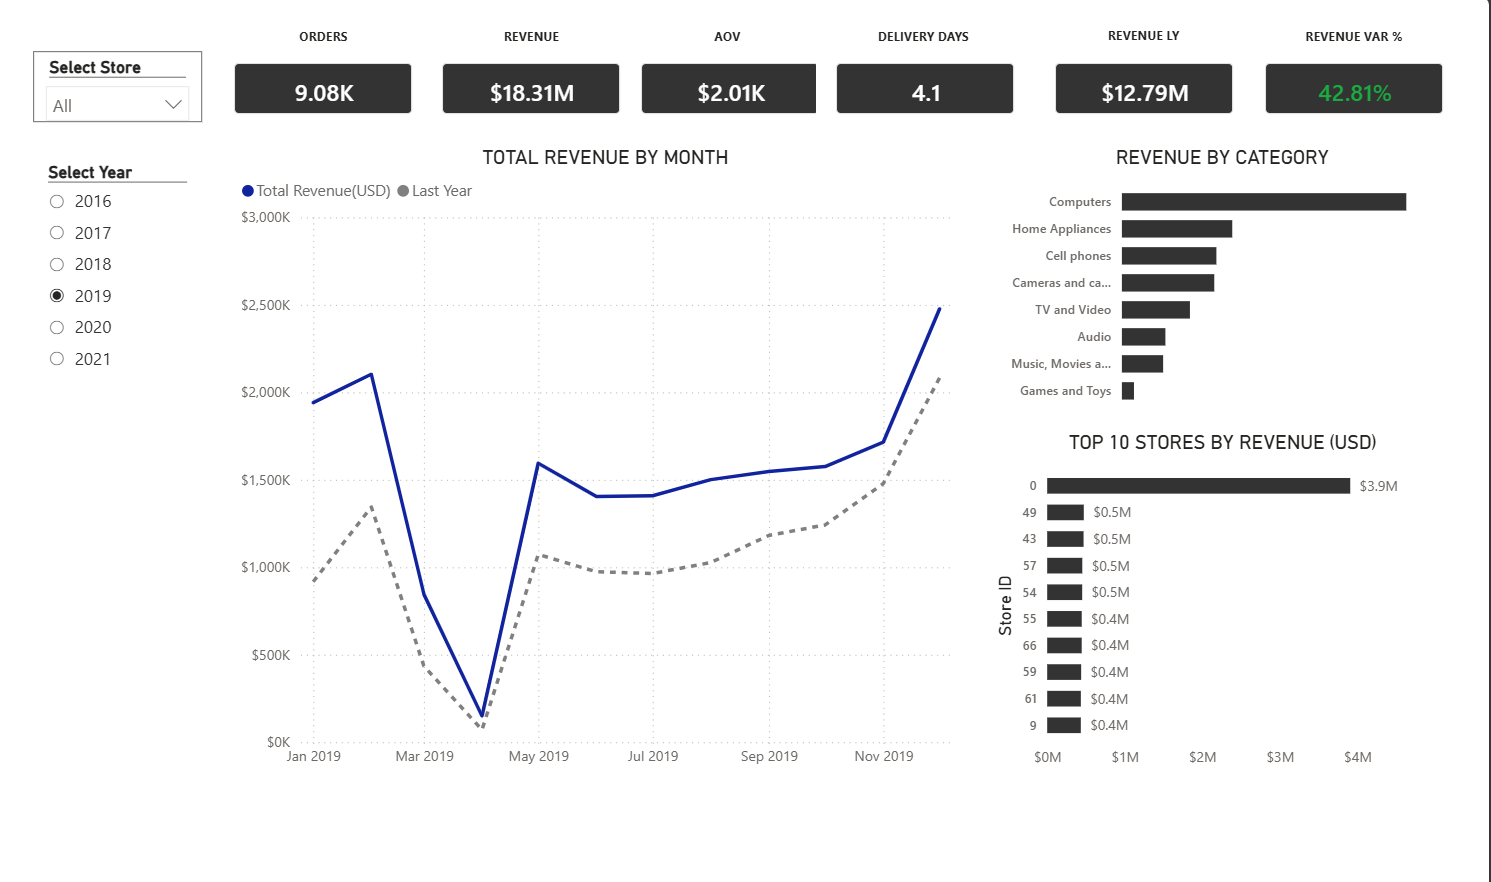

The dashboard page shown, as its layout file describes it:
{"tool":"powerbi","page":{"name":"Exce Overview","canvas":[1280,720],"ordinal":0},"visuals":[{"type":"cardVisual","fields":{"Data":["_Measures.Total Orders"]},"box":[187.8,39,187.8,78.4],"z":1000},{"type":"lineChart","title":"TOTAL REVENUE BY MONTH","fields":{"Category":["DimDate.Start of Month"],"Y":["_Measures.Total Revenue(USD)","_Measures.Revenue LY"]},"box":[205.6,127.2,634.7,541.9],"z":3000},{"type":"barChart","title":" REVENUE BY CATEGORY","fields":{"Category":["Categories.Category"],"Y":["_Measures.Total Revenue(USD)"]},"box":[852.1,127.2,398.1,232.9],"z":5000},{"type":"slicer","fields":{"Values":["Stores.StoreKey"]},"box":[32.8,46.4,144.7,61.1],"z":6000},{"type":"slicer","fields":{"Values":["DimDate.Year"]},"box":[32.8,136.8,144.7,271.4],"z":7000},{"type":"textbox","box":[218.7,18.5,126,27.3],"z":8000},{"type":"textbox","box":[397,18.5,126,27.3],"z":9000},{"type":"textbox","box":[565.7,18.5,127.2,27.3],"z":10000},{"type":"textbox","box":[733.3,18.5,127.2,27.3],"z":11000},{"type":"textbox","box":[931.8,17.9,107,28.5],"z":12000},{"type":"textbox","box":[1100.5,18.5,127.2,27.3],"z":13000},{"type":"barChart","title":"TOP 10 STORES BY REVENUE (USD)","fields":{"Category":["Stores.StoreKey"],"Y":["_Measures.Total Revenue(USD)"]},"box":[852.1,370.8,398.1,298.3],"z":14000},{"type":"cardVisual","fields":{"Data":["_Measures.Total Revenue (Local)"]},"box":[366.1,39,187.8,78.4],"z":15000},{"type":"cardVisual","fields":{"Data":["_Measures.Average Order Value (AOV)"]},"box":[536,39,187.8,78.4],"z":16000},{"type":"cardVisual","fields":{"Data":["_Measures.Average Devilvery Time (Days)"]},"box":[703.6,39,187.8,78.4],"z":17000},{"type":"cardVisual","fields":{"Data":["_Measures.Revenue LY"]},"box":[891.4,39,187.8,78.4],"z":18000},{"type":"cardVisual","fields":{"Data":["_Measures.Revenue Var %"]},"box":[1070.8,39,187.8,78.4],"z":19000}]}

Visuals, with their boxes on the page's 1280x720 design canvas (x1, y1, x2, y2). These are canvas units, not pixel positions in the 1491x882 screenshot, which may show the page scaled, cropped or inside an application window:
cardVisual - _Measures.Total Orders: rect(188, 39, 376, 117)
"TOTAL REVENUE BY MONTH" lineChart: rect(206, 127, 840, 669)
" REVENUE BY CATEGORY" barChart: rect(852, 127, 1250, 360)
slicer - Stores.StoreKey: rect(33, 46, 178, 108)
slicer - DimDate.Year: rect(33, 137, 178, 408)
textbox: rect(219, 18, 345, 46)
textbox: rect(397, 18, 523, 46)
textbox: rect(566, 18, 693, 46)
textbox: rect(733, 18, 860, 46)
textbox: rect(932, 18, 1039, 46)
textbox: rect(1100, 18, 1228, 46)
"TOP 10 STORES BY REVENUE (USD)" barChart: rect(852, 371, 1250, 669)
cardVisual - _Measures.Total Revenue (Local): rect(366, 39, 554, 117)
cardVisual - _Measures.Average Order Value (AOV): rect(536, 39, 724, 117)
cardVisual - _Measures.Average Devilvery Time (Days): rect(704, 39, 891, 117)
cardVisual - _Measures.Revenue LY: rect(891, 39, 1079, 117)
cardVisual - _Measures.Revenue Var %: rect(1071, 39, 1259, 117)
